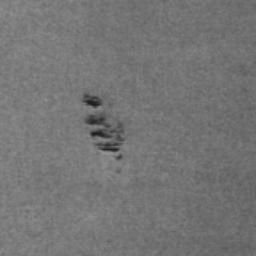Secondary rust skin: (82, 94, 125, 161)
